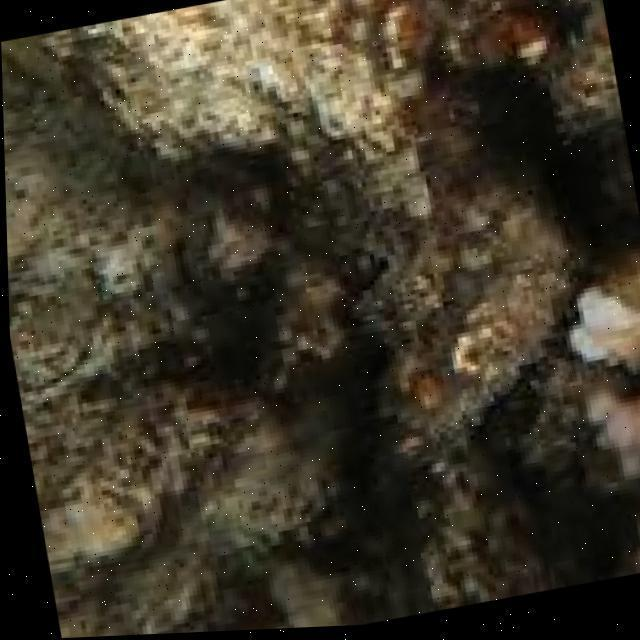Dead Coral: (137, 163, 576, 504)
